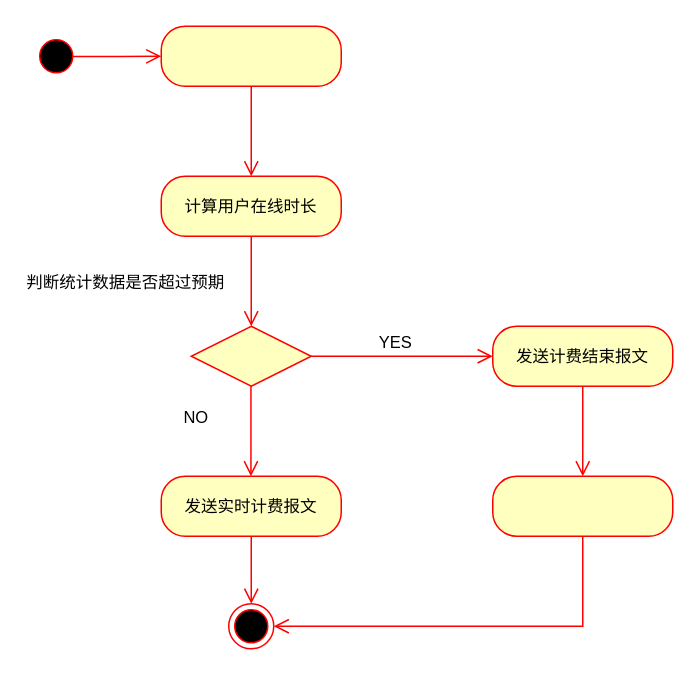
The diagram is 699 pixels wide and 675 high, and some of its shapes have lost their labels. The shapes that lost their labels are listed below. From the top down, each one's centre as x and y in pixels, then its label:
At (x=250, y=55): "从数据库中获取流量统计信息".
At (x=582, y=505): "触发用户下线".
